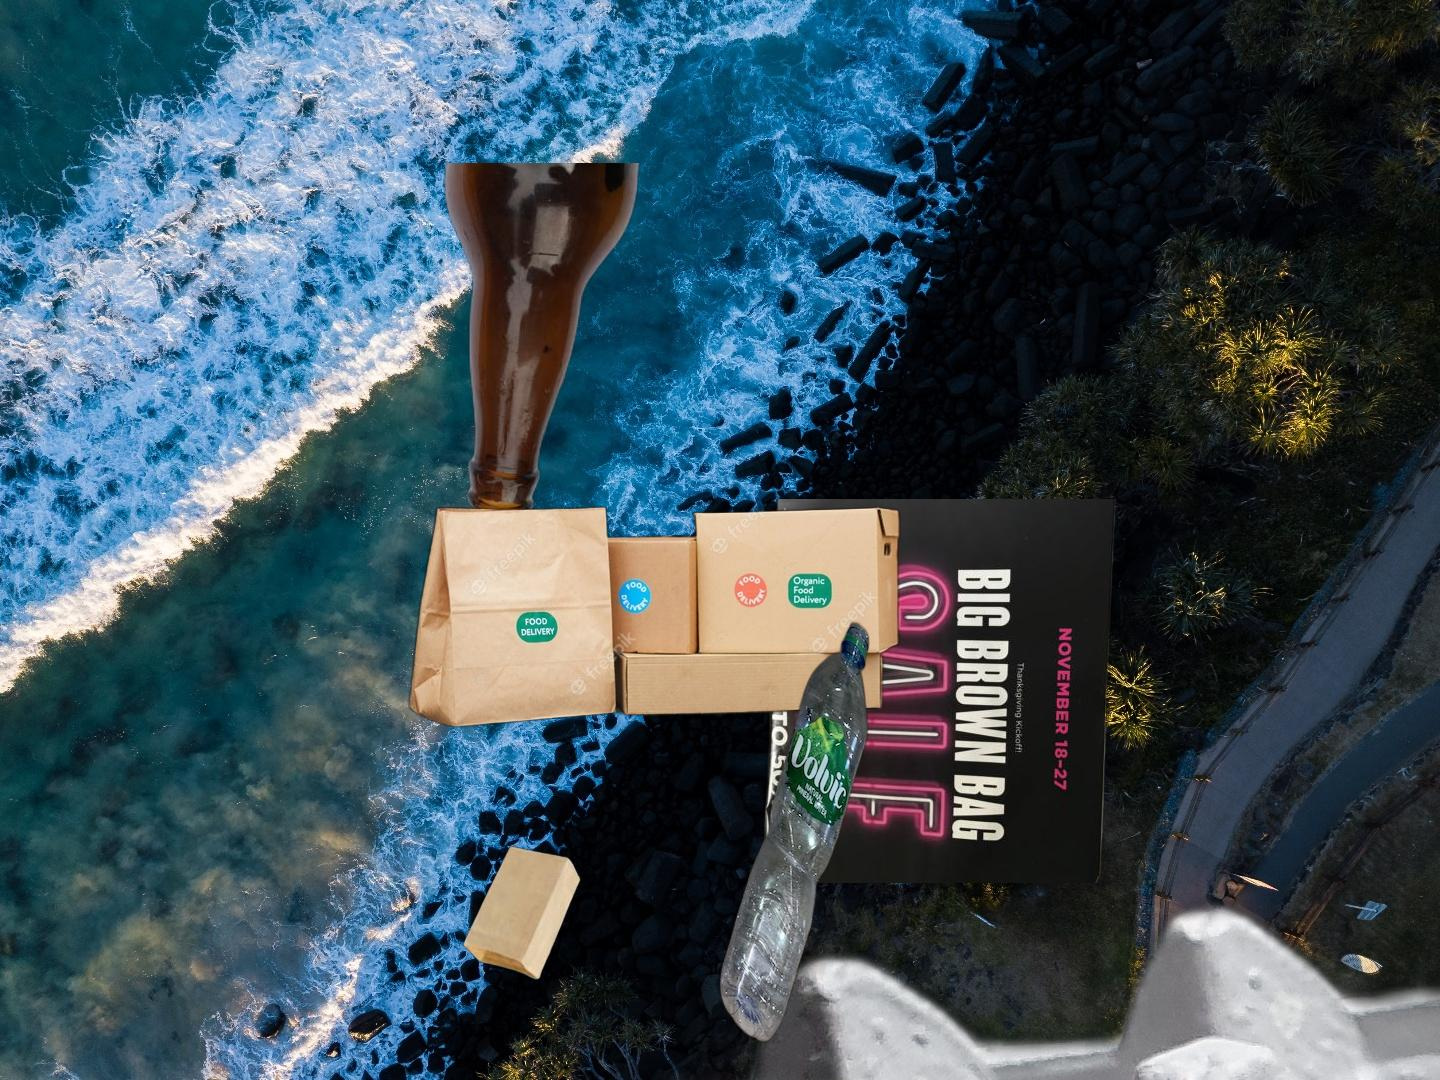glass: (440, 163, 644, 522)
paper: (759, 499, 1121, 883)
paper-bag: (461, 843, 582, 981)
plastic-bottles: (715, 619, 873, 1047)
trashbox-cardboard: (460, 663, 1440, 1080), (403, 492, 906, 729)
